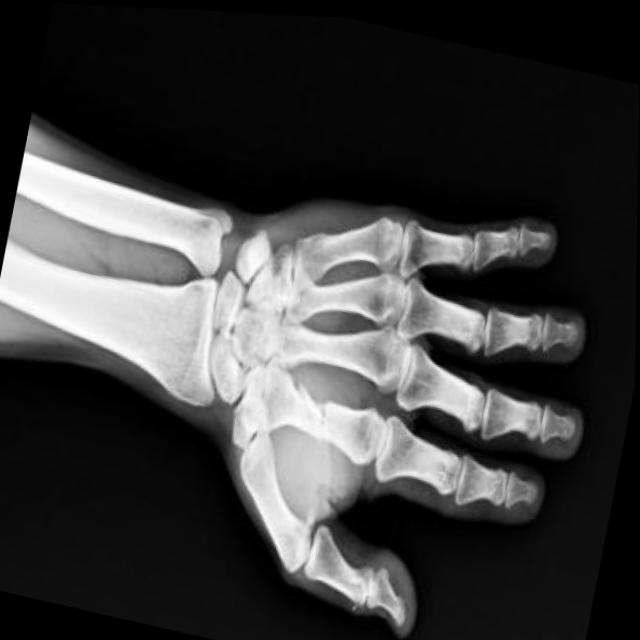fracture: (284, 367, 346, 456)
